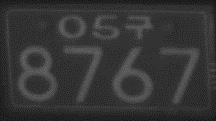0: (57, 14, 87, 40)
5: (92, 14, 120, 41)
6: (112, 45, 154, 104)
7: (158, 47, 200, 105), (63, 45, 102, 103)
8: (16, 44, 58, 101)
구: (125, 14, 154, 40)
